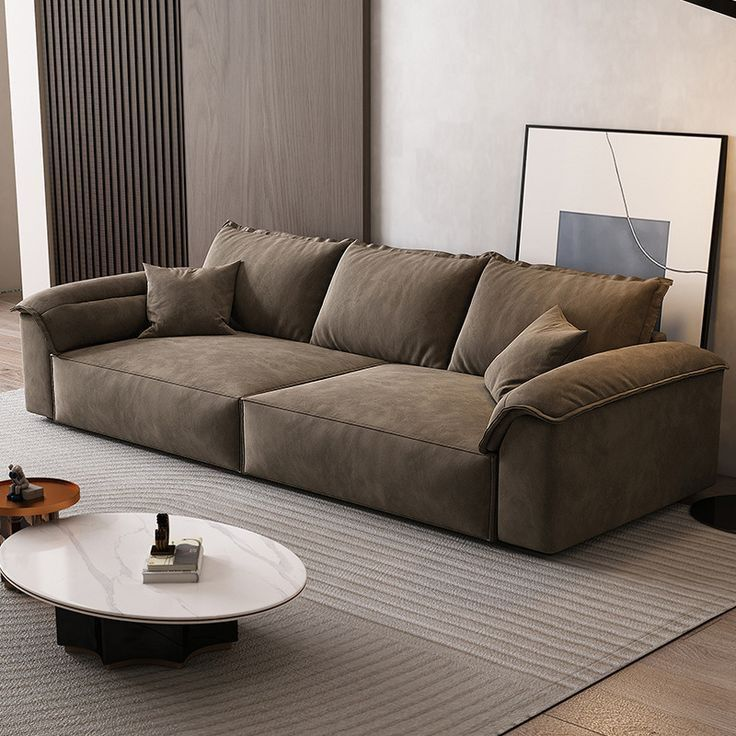3seatersofa: (14, 222, 725, 552)
backrest: (205, 222, 670, 375)
leftarmrest: (479, 342, 725, 552)
pillow: (486, 307, 586, 397), (141, 263, 238, 337)
rightarmrest: (13, 272, 146, 416)
seat: (54, 333, 491, 534)
